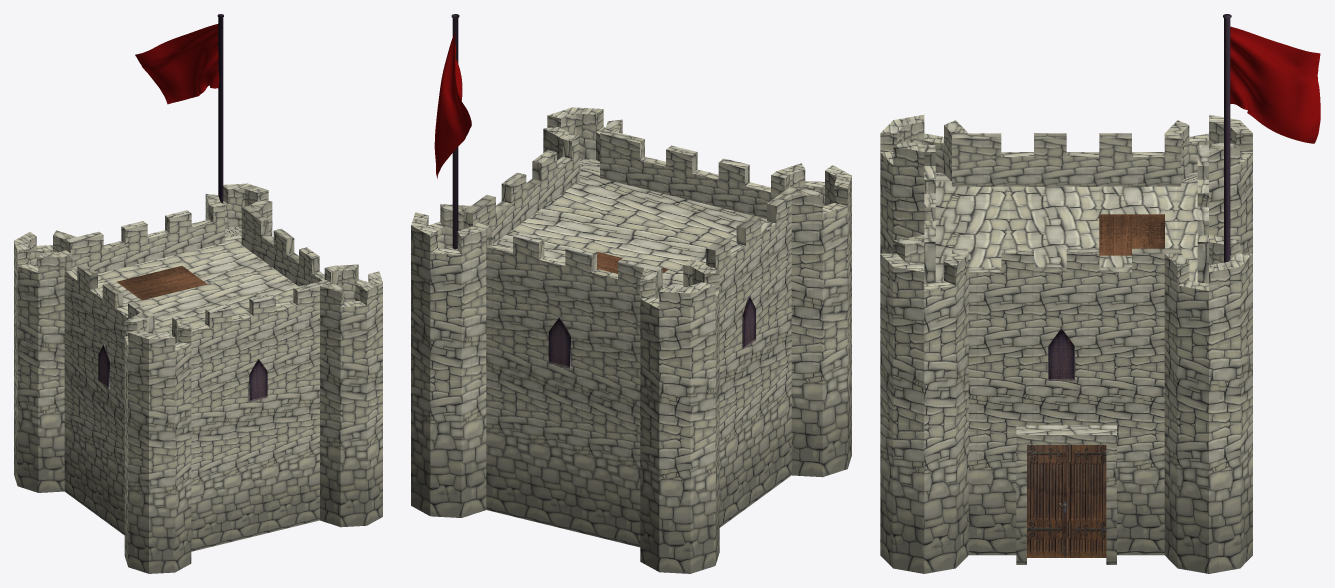
File: Citadel_Stone.fbx
The picture shows the model from 3 angles, left to right: view 1: azimuth 30°, elevation 25°; view 2: azimuth 150°, elevation 25°; view 3: azimuth 270°, elevation 25°; orthographic projection. The views are drawn at different scales.
Parts seen in each view (by area): view 1: pCube6, polySurface2, polySurface1; view 2: pCube6, polySurface2, polySurface1; view 3: pCube6, polySurface2, polySurface1.
Part boxes in pixels (box(x1,y1,x2,y2)): pCube6: box(14, 183, 382, 573); polySurface2: box(135, 24, 219, 104); polySurface1: box(217, 14, 223, 203); pCube6: box(411, 107, 851, 573); polySurface2: box(434, 32, 471, 178); polySurface1: box(451, 14, 459, 248); pCube6: box(880, 114, 1252, 573); polySurface2: box(1230, 26, 1320, 143); polySurface1: box(1223, 14, 1231, 262).
Size of the model in its own units: 18.35 by 28.93 by 21.68.
Materials: 1 (1 with a texture image).
